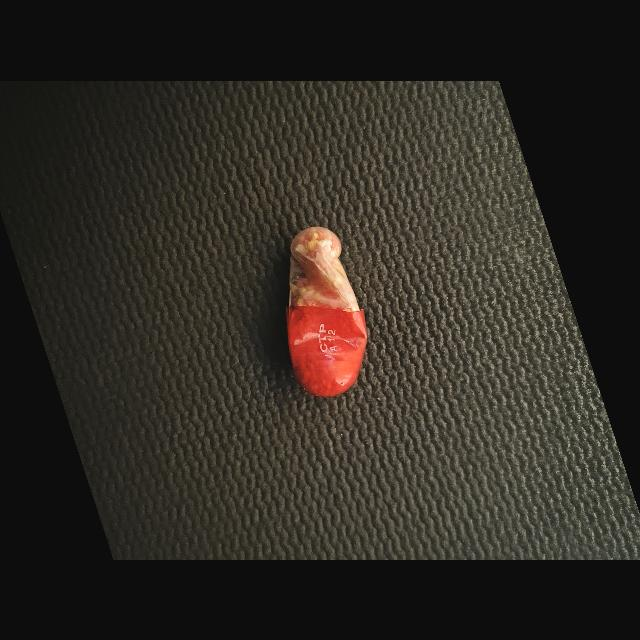Defective Capsule: (287, 226, 367, 396)
